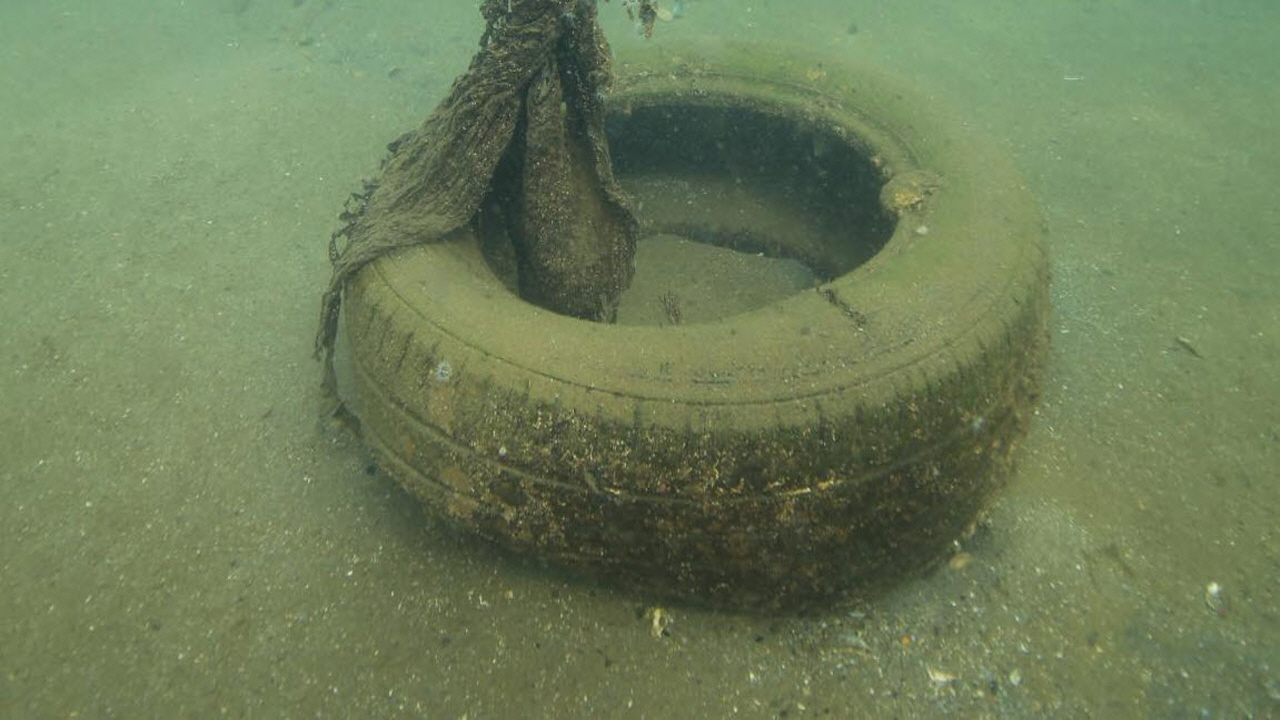tire: (340, 36, 1053, 616)
